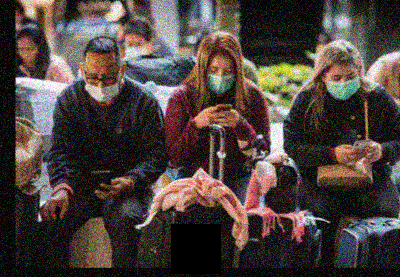with_mask: (84, 70, 122, 104), (326, 70, 361, 100), (206, 63, 236, 96), (123, 39, 149, 57)
without_mask: (18, 43, 38, 67)
